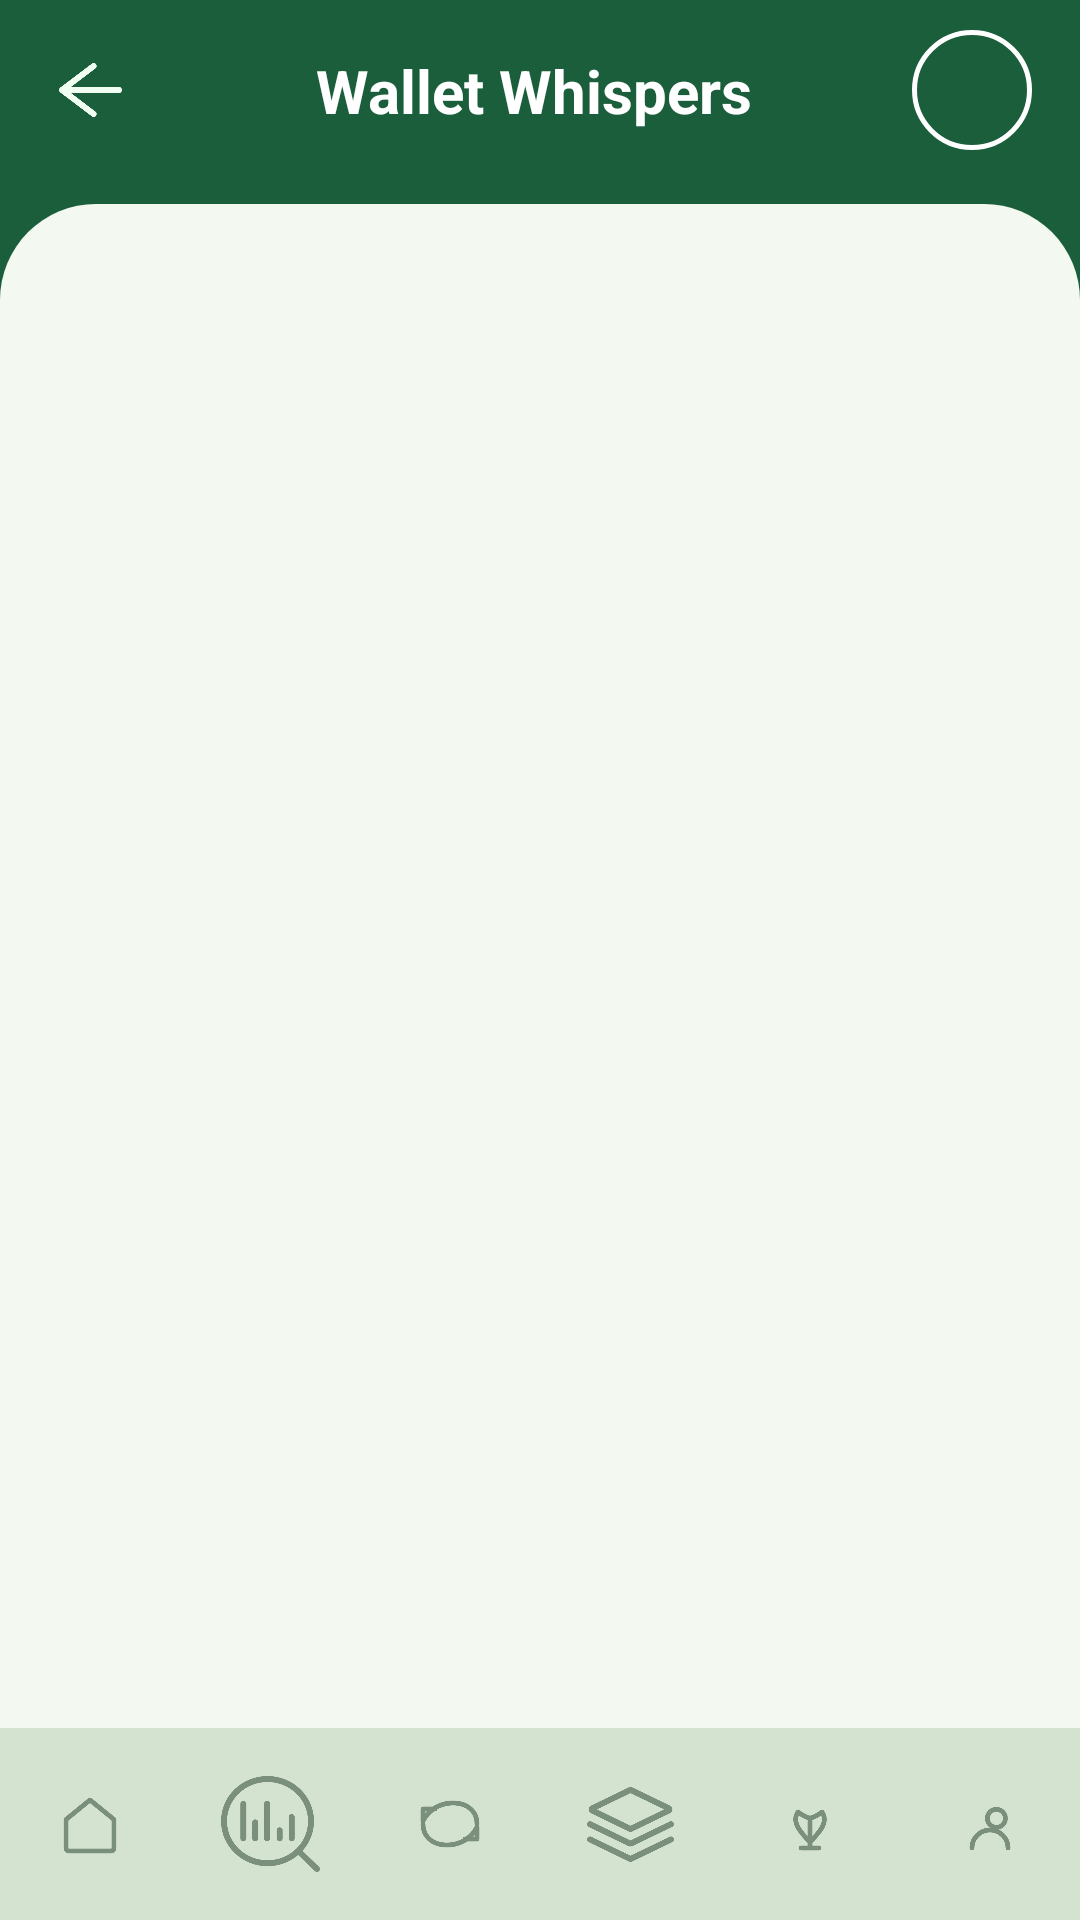

Locate icon controls on the screen. Image size 1080 x 1920, boxes as (x1, y1, x2, y2).
Analytics: (221, 1776, 320, 1872)
Back: (59, 63, 122, 117)
Categories: (587, 1787, 674, 1862)
Goals: (793, 1810, 827, 1850)
Home: (64, 1798, 116, 1853)
Profile: (970, 1807, 1010, 1850)
